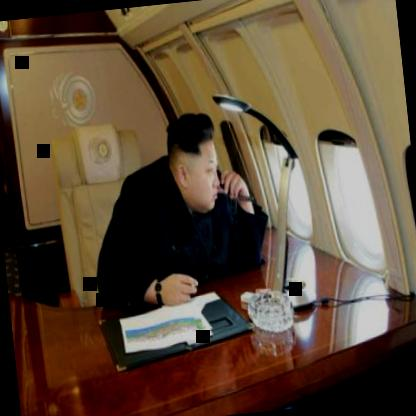head: (161, 107, 224, 213)
